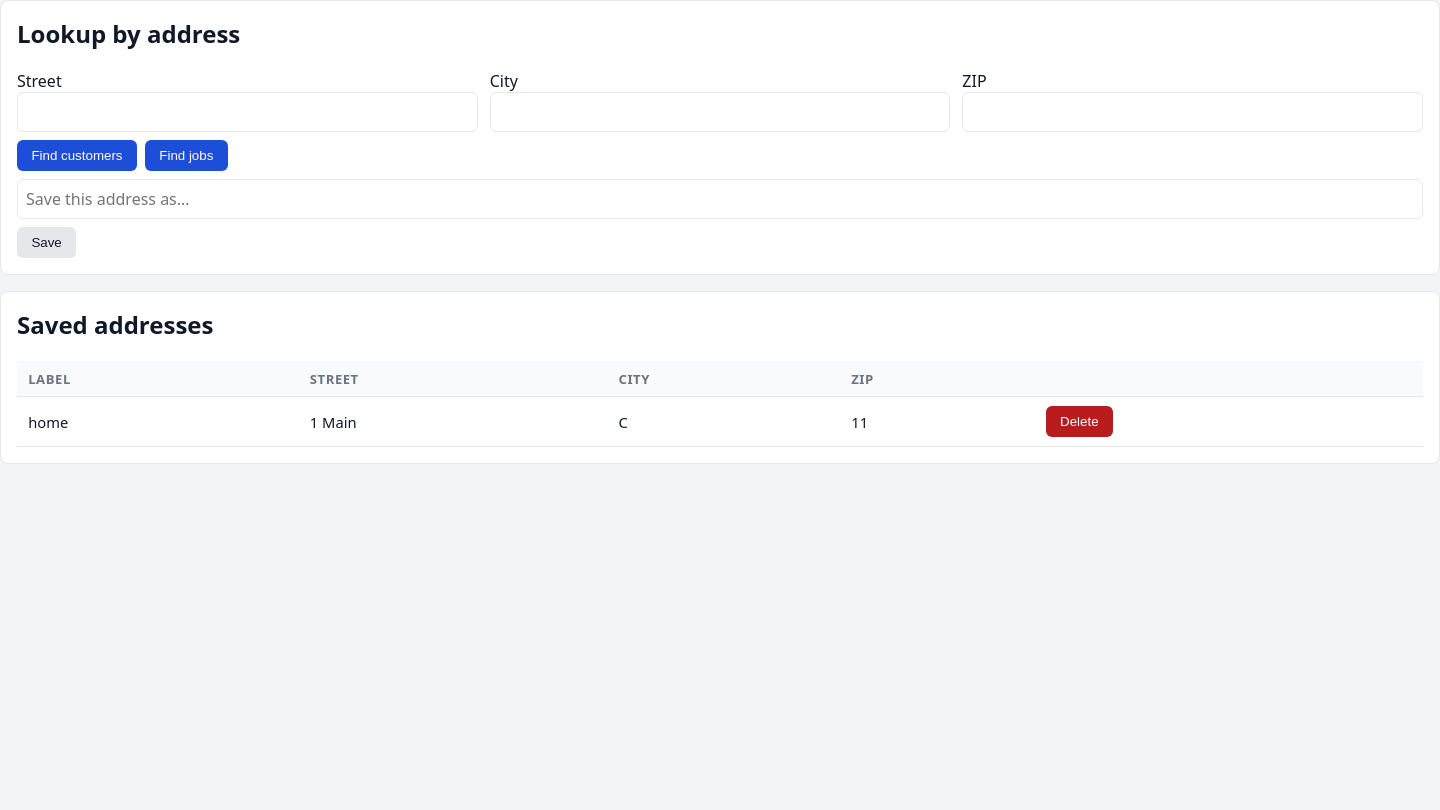
Test case: AddressBookPage › finds jobs by address
Type "11" into the 3rd field at (1193, 112), box x1=962 y1=92 x2=1423 y2=132
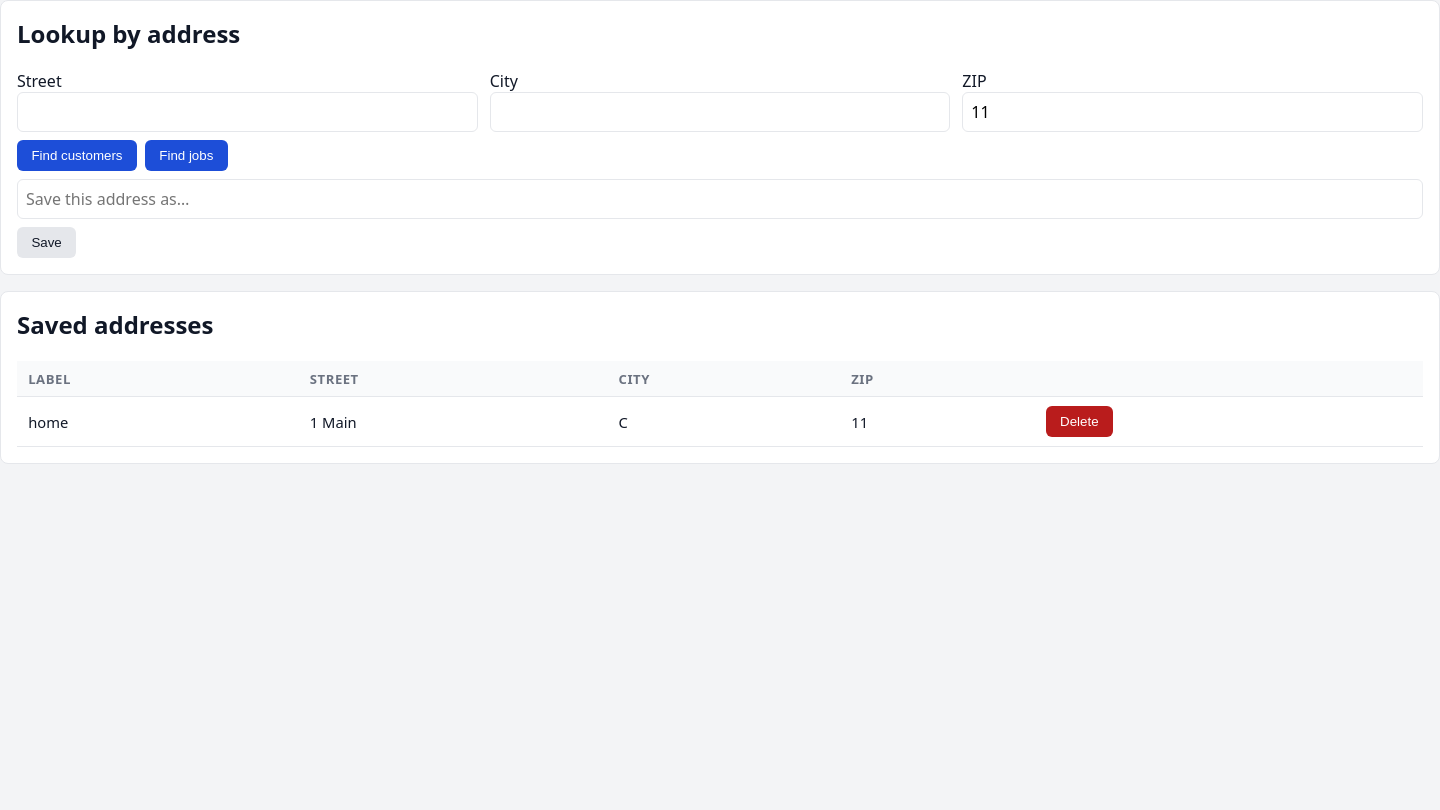
Click the button "Find jobs" at (186, 155), box x1=145 y1=140 x2=228 y2=171
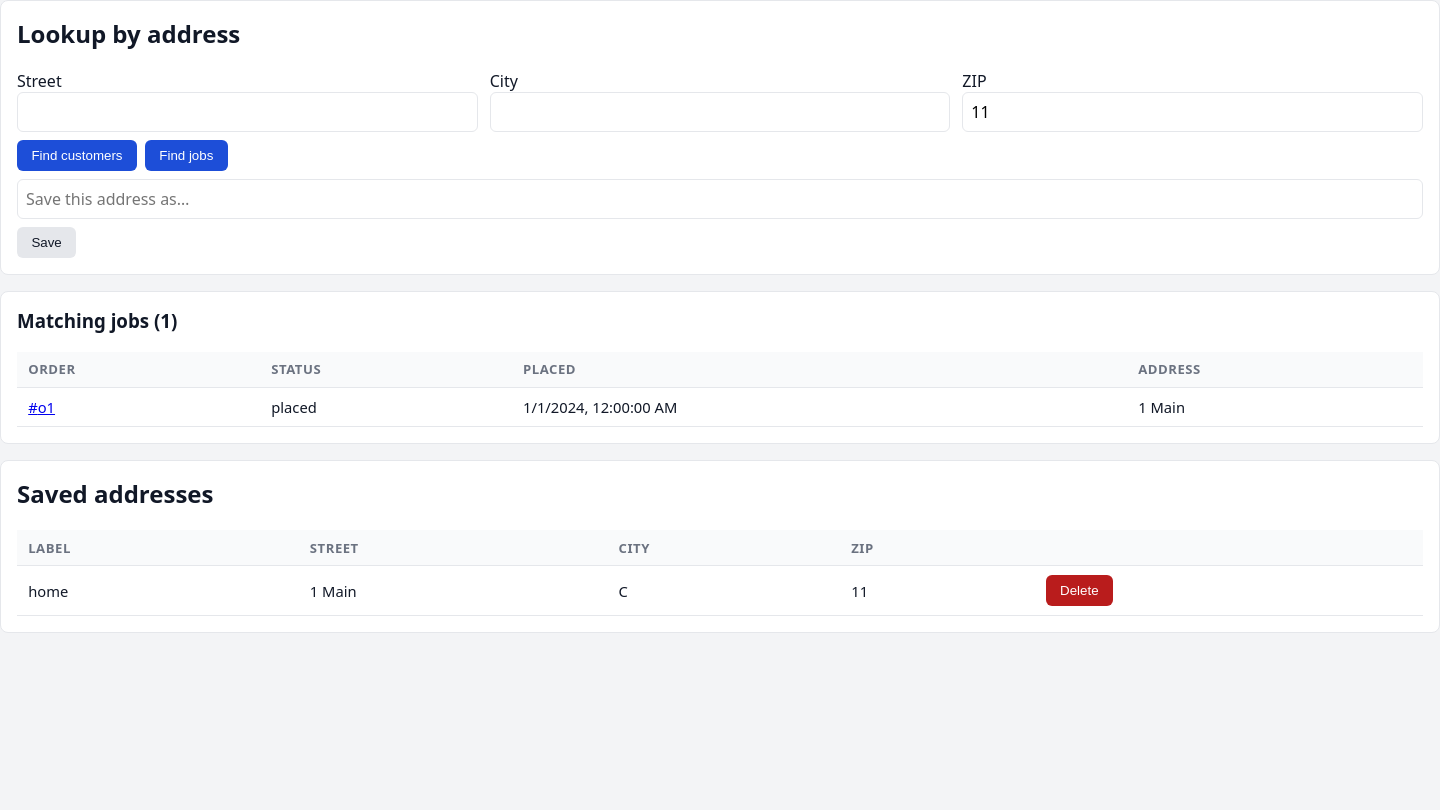
Expected: the heading "Matching jobs (1)" is shown, x1=17 y1=308 x2=177 y2=333
